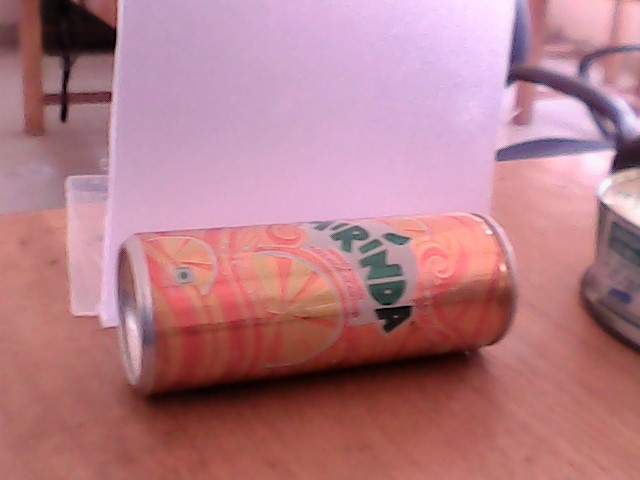Metal: (110, 223, 532, 389)
